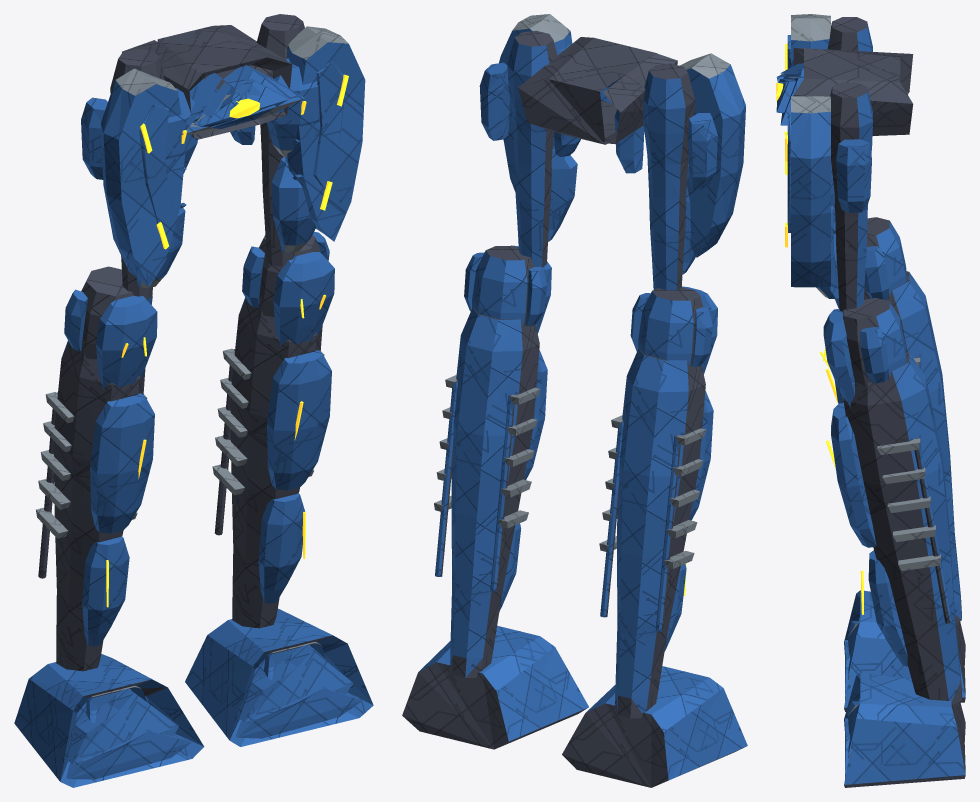
Rendered from BasicLegsW.glb.
3 renders of one model, left to right at view 1: azimuth 30°, elevation 25°; view 2: azimuth 150°, elevation 25°; view 3: azimuth 270°, elevation 25°, orthographic. The views are drawn at different scales.
Visible parts, largest first — view 1: BasicLegsW_ShinL, BasicLegsW_ShinR, BasicLegsW_ThighR, BasicLegsW_ThighL, BasicLegsW_FootR, BasicLegsW_FootL, BasicLegsW_Pelvis; view 2: BasicLegsW_ShinL, BasicLegsW_ShinR, BasicLegsW_ThighL, BasicLegsW_FootR, BasicLegsW_FootL, BasicLegsW_ThighR, BasicLegsW_Pelvis; view 3: BasicLegsW_ShinR, BasicLegsW_ThighR, BasicLegsW_FootR, BasicLegsW_ShinL, BasicLegsW_Pelvis, BasicLegsW_FootL, BasicLegsW_ThighL.
Part boxes in pixels (bbox=[...]): BasicLegsW_ShinL: bbox=[36, 266, 157, 671]; BasicLegsW_ShinR: bbox=[212, 231, 334, 628]; BasicLegsW_ThighR: bbox=[230, 14, 365, 266]; BasicLegsW_ThighL: bbox=[81, 49, 201, 299]; BasicLegsW_FootR: bbox=[185, 608, 373, 746]; BasicLegsW_FootL: bbox=[14, 654, 204, 787]; BasicLegsW_Pelvis: bbox=[122, 25, 304, 139]; BasicLegsW_ShinL: bbox=[599, 286, 717, 718]; BasicLegsW_ShinR: bbox=[434, 245, 551, 677]; BasicLegsW_ThighL: bbox=[614, 53, 745, 290]; BasicLegsW_FootR: bbox=[402, 626, 588, 749]; BasicLegsW_FootL: bbox=[562, 666, 747, 787]; BasicLegsW_ThighR: bbox=[479, 14, 580, 267]; BasicLegsW_Pelvis: bbox=[518, 37, 677, 144]; BasicLegsW_ShinR: bbox=[819, 298, 961, 704]; BasicLegsW_ThighR: bbox=[784, 82, 872, 311]; BasicLegsW_FootR: bbox=[844, 672, 965, 787]; BasicLegsW_ShinL: bbox=[825, 217, 961, 622]; BasicLegsW_Pelvis: bbox=[776, 48, 913, 135]; BasicLegsW_FootL: bbox=[844, 590, 965, 711]; BasicLegsW_ThighL: bbox=[785, 14, 872, 233].
Bounding box in the file's own units: 9.61 × 20.86 × 5.4.
4 materials, 3 textured.
